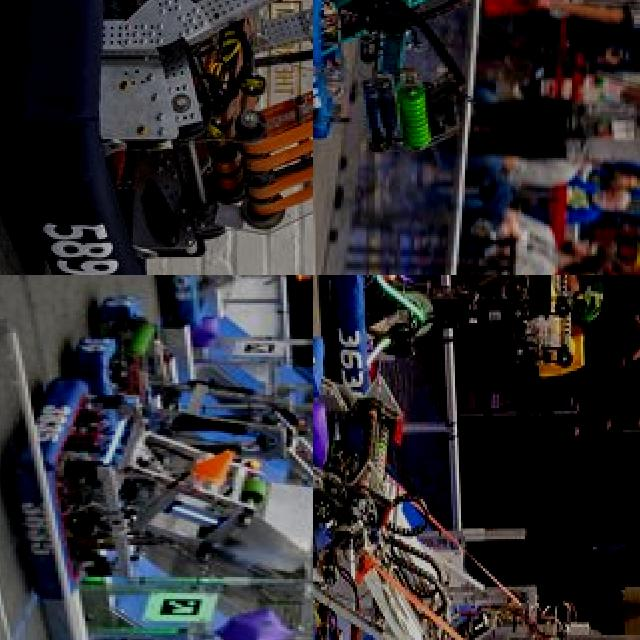FRC-Robots: (0, 0, 313, 275), (313, 330, 589, 640), (1, 373, 313, 620), (72, 288, 313, 546), (313, 0, 640, 149), (314, 275, 606, 432), (148, 275, 313, 344)
